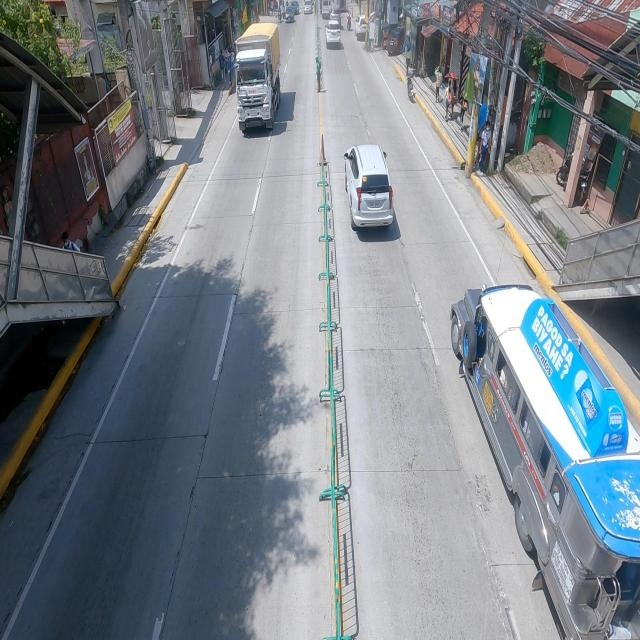Truck: (234, 19, 282, 138)
